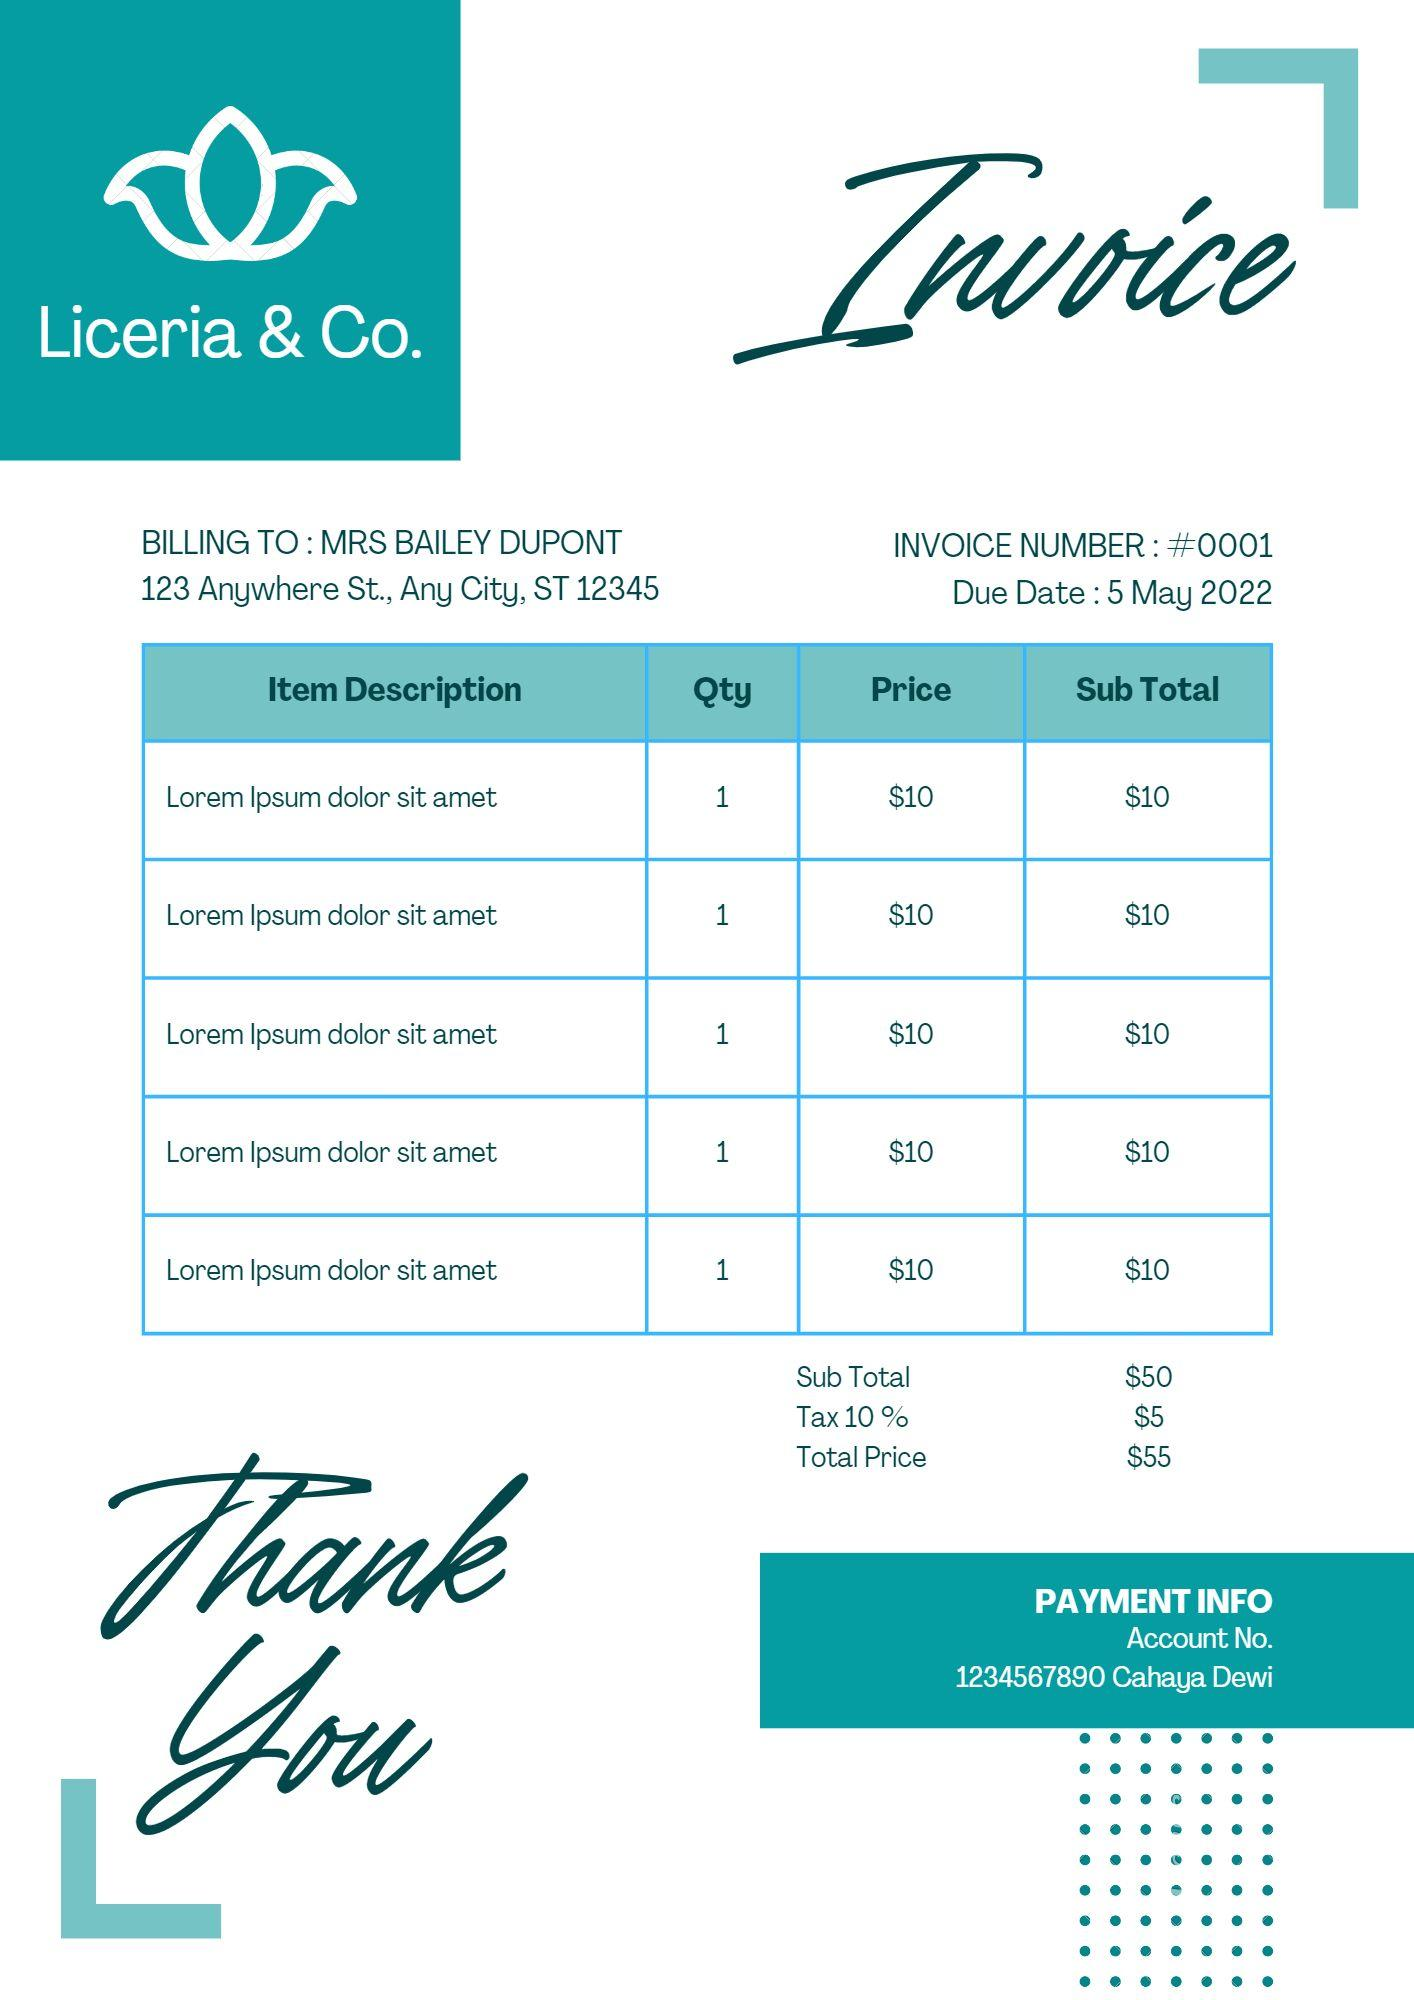ROI: (130, 632, 1282, 1345)
